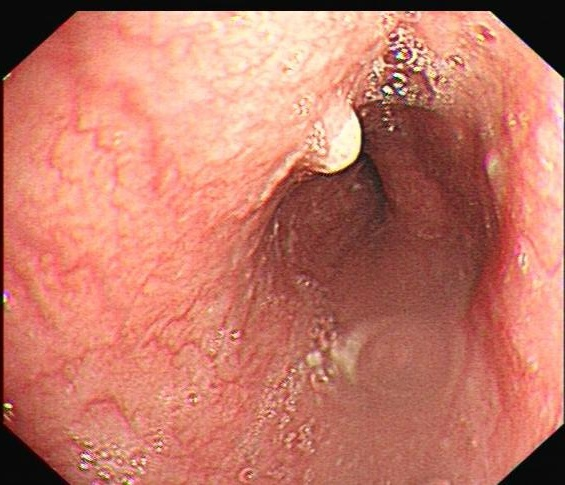Polyp: (289, 82, 378, 179)
